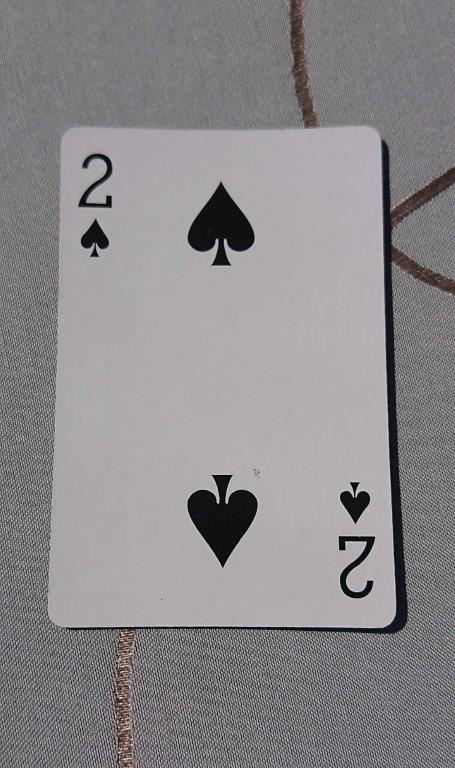2S: (46, 123, 398, 630)
